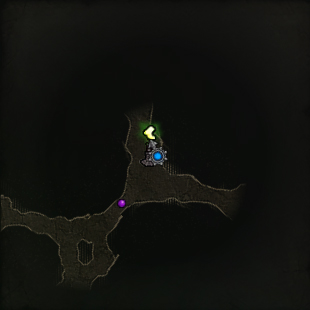SpeedPylon: (141, 124, 159, 164)
